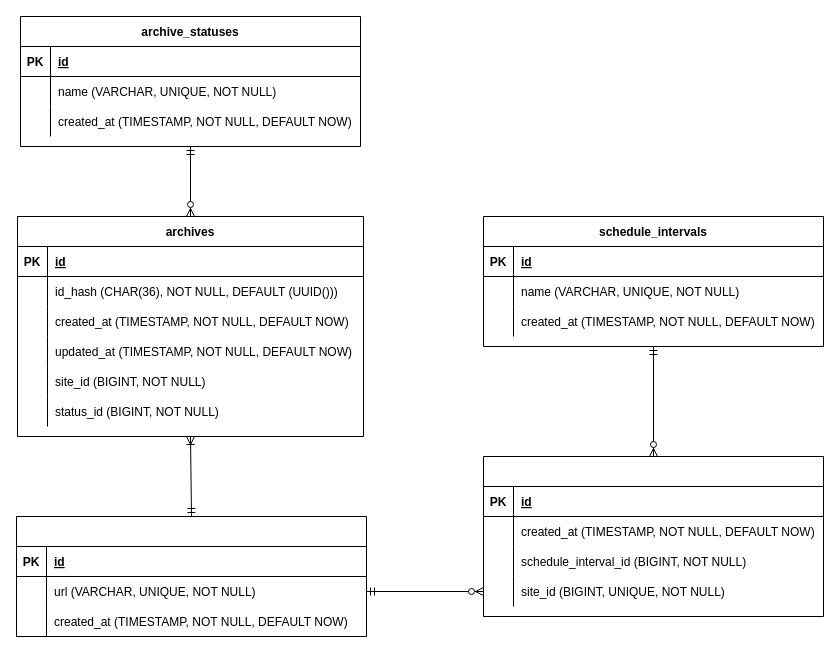
This 840x653 diagram has some shape labels left out. Here are the shapes that lost their labels. From the top down, the box of each, then its label:
(482, 456, 824, 616): archive_schedules
(16, 516, 366, 636): sites
